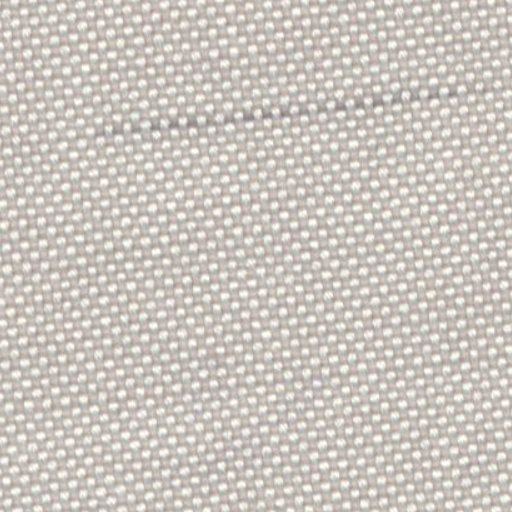WuZi: (96, 83, 472, 136)
